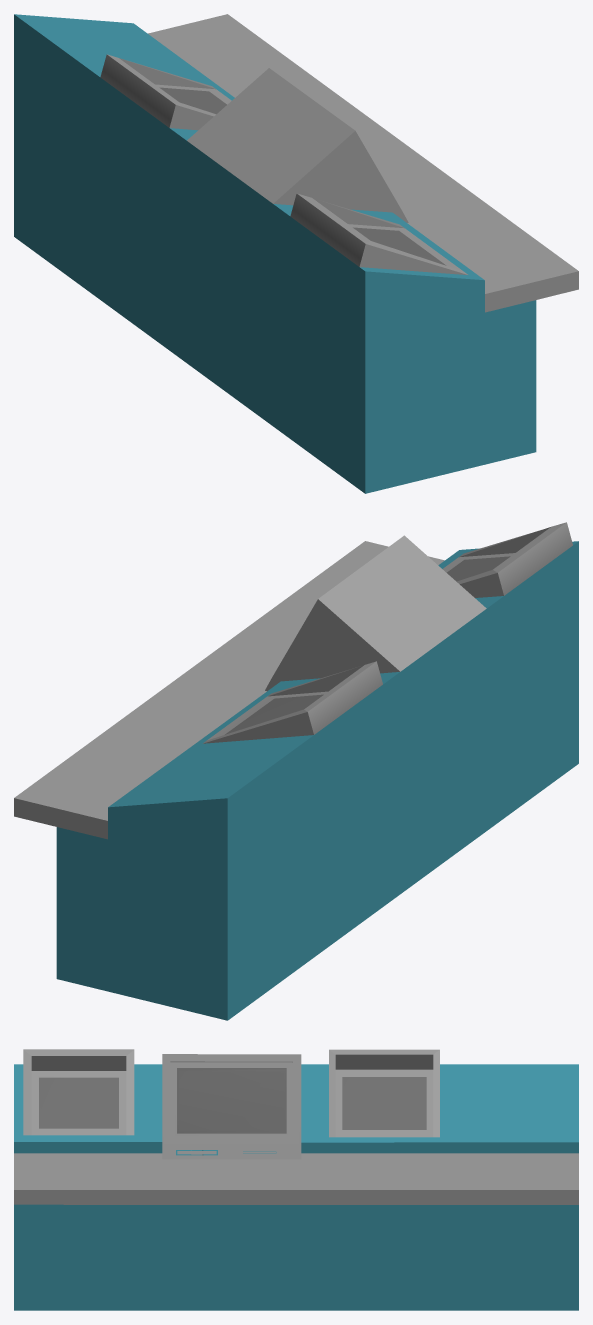
Rendered from B_ComputerConsole.fbx.
The picture shows the model from 3 angles, top to bottom: view 1: azimuth 30°, elevation 25°; view 2: azimuth 150°, elevation 25°; view 3: azimuth 270°, elevation 25°; orthographic projection. The views are drawn at different scales.
Parts seen in each view (by area): view 1: B_ComputerConsole; view 2: B_ComputerConsole; view 3: B_ComputerConsole.
Part boxes in pixels (x1,y1,x2,y2): B_ComputerConsole: (14, 14, 578, 493); B_ComputerConsole: (14, 522, 578, 1020); B_ComputerConsole: (14, 1049, 578, 1310).
Bounding box in the file's own units: 4.54 × 5.59 × 12.92.
